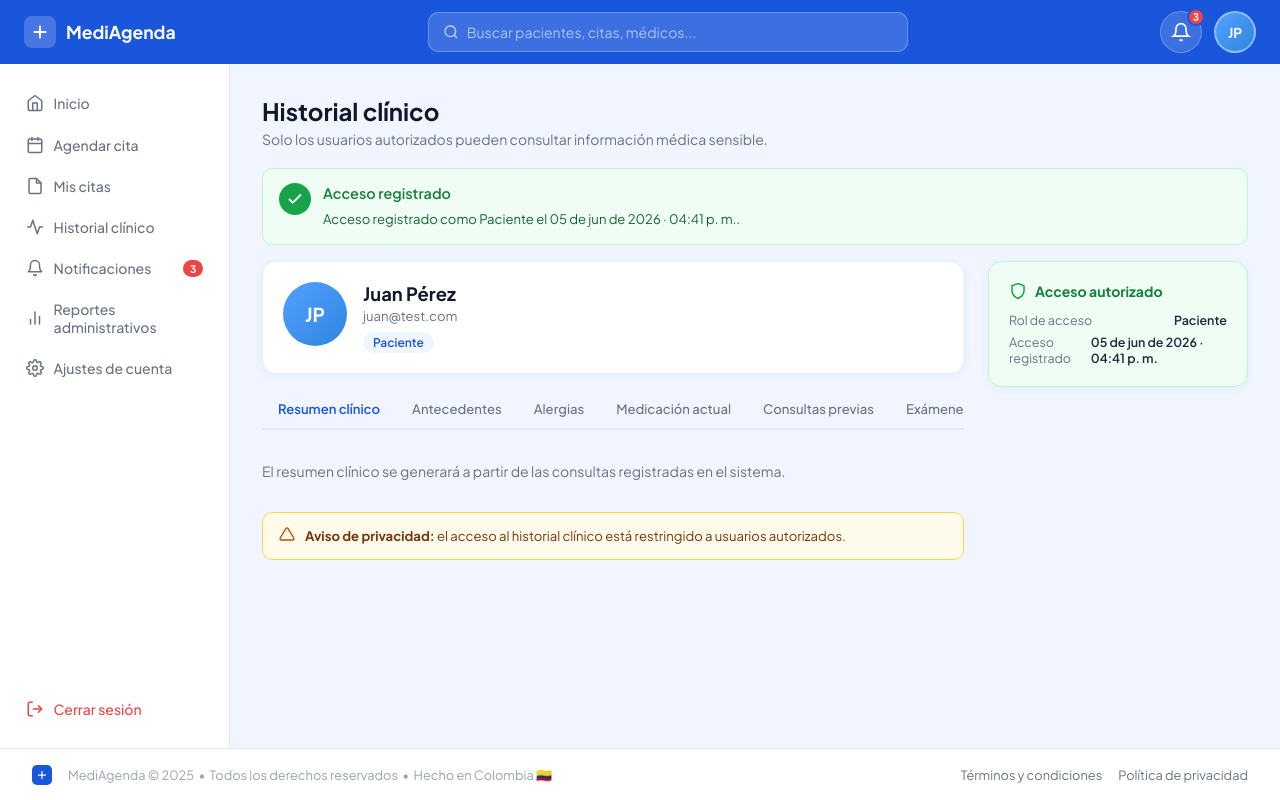
Scenario: Componente Historial - MediAgenda › Tabs de navegación › debe cambiar a la pestaña Alergias al hacer clic
The width and height of the screenshot is (1280, 800).
Step 1. Click the button "Alergias" → (559, 410), box [518,390,600,430]
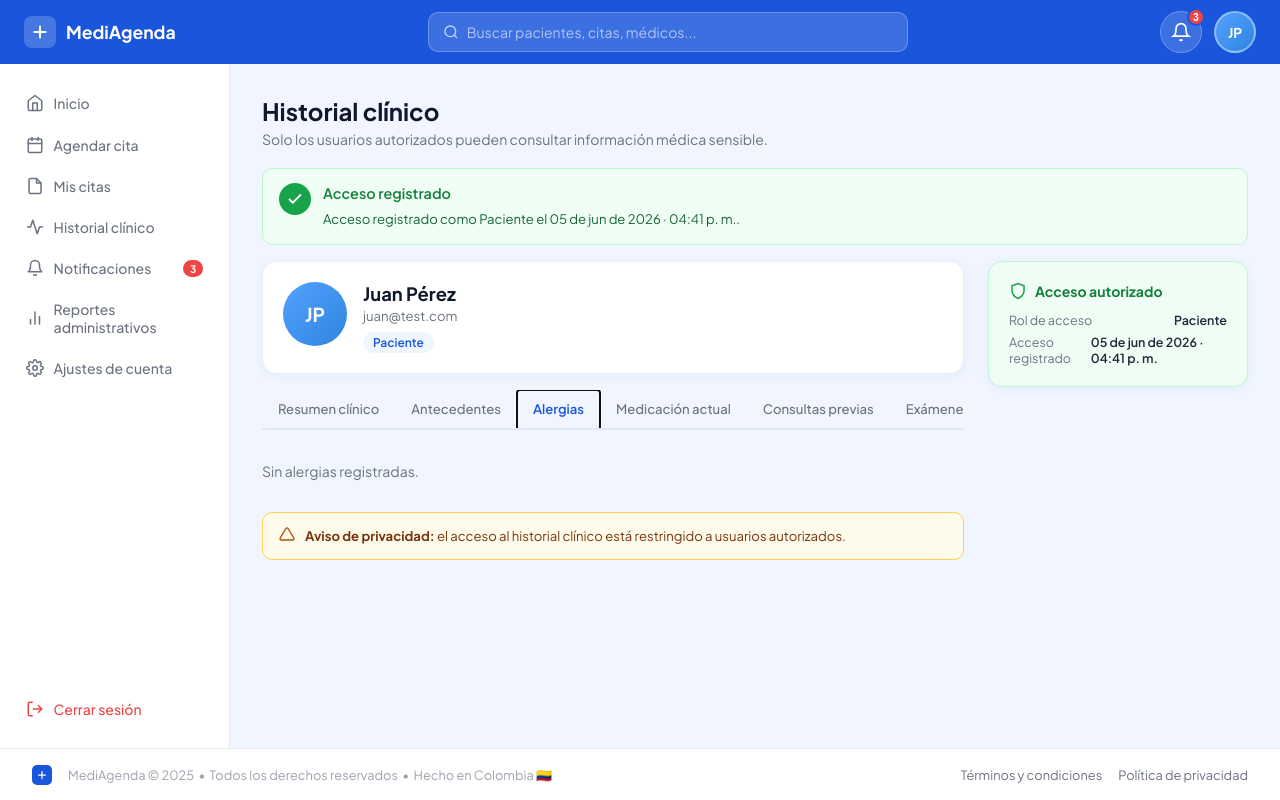
expect the text "Sin alergias registradas." is shown: met, box [262,462,419,480]
